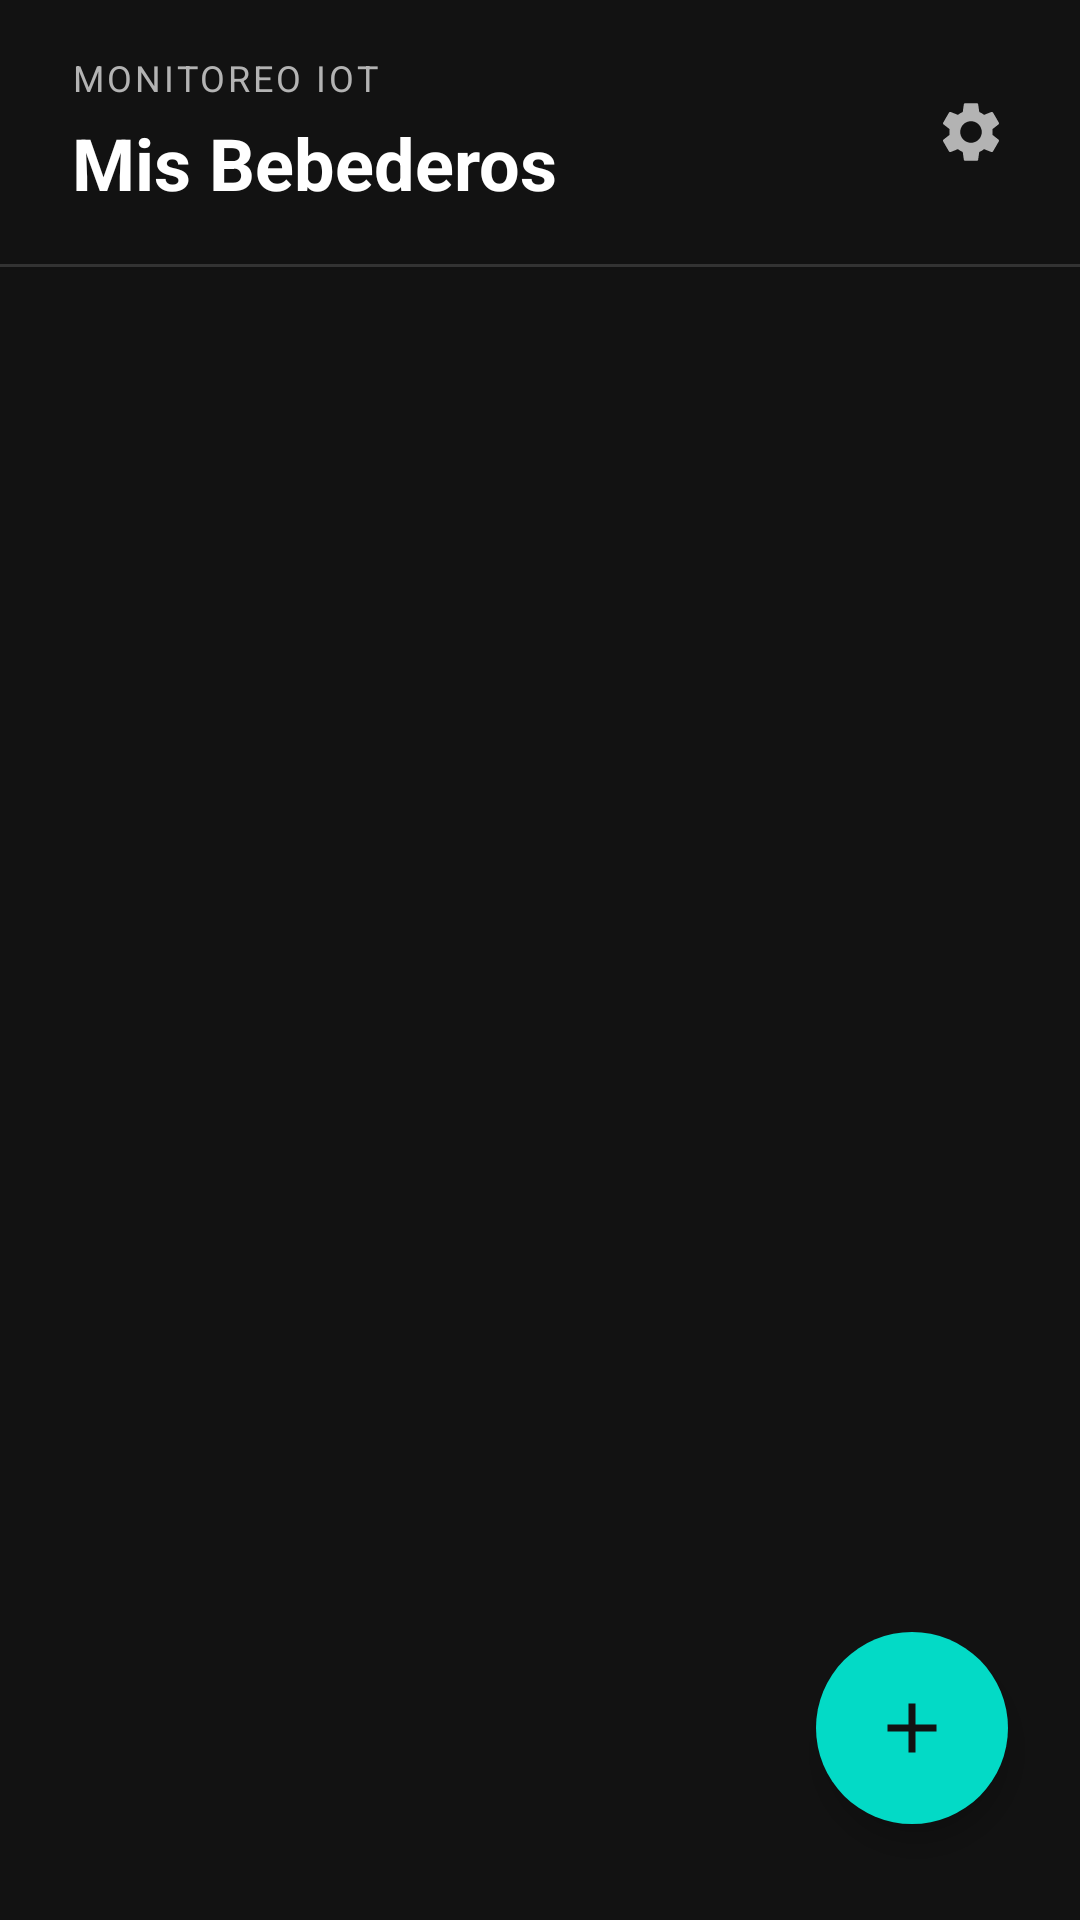

Where icons sit on this 1080px×1920px app screen, as BBox(x1, y1, x2, y2):
Agregar dispositivo: BBox(816, 1632, 1008, 1824)
Configuración: BBox(943, 103, 999, 161)
